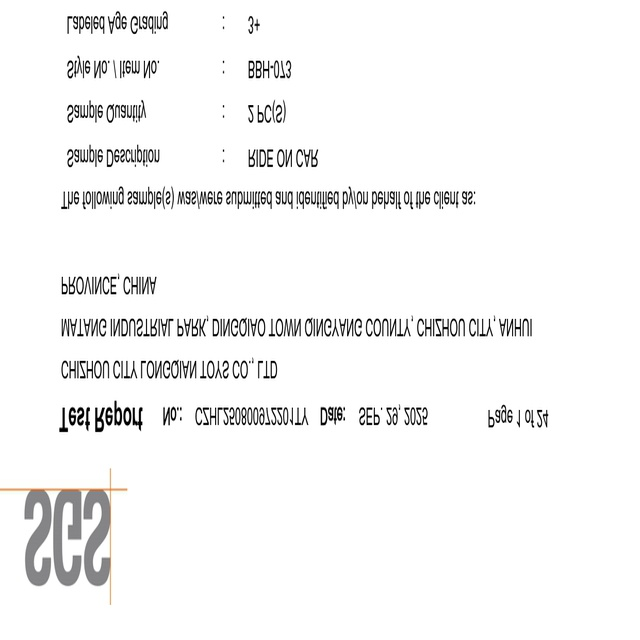sgs: (23, 488, 111, 588)
